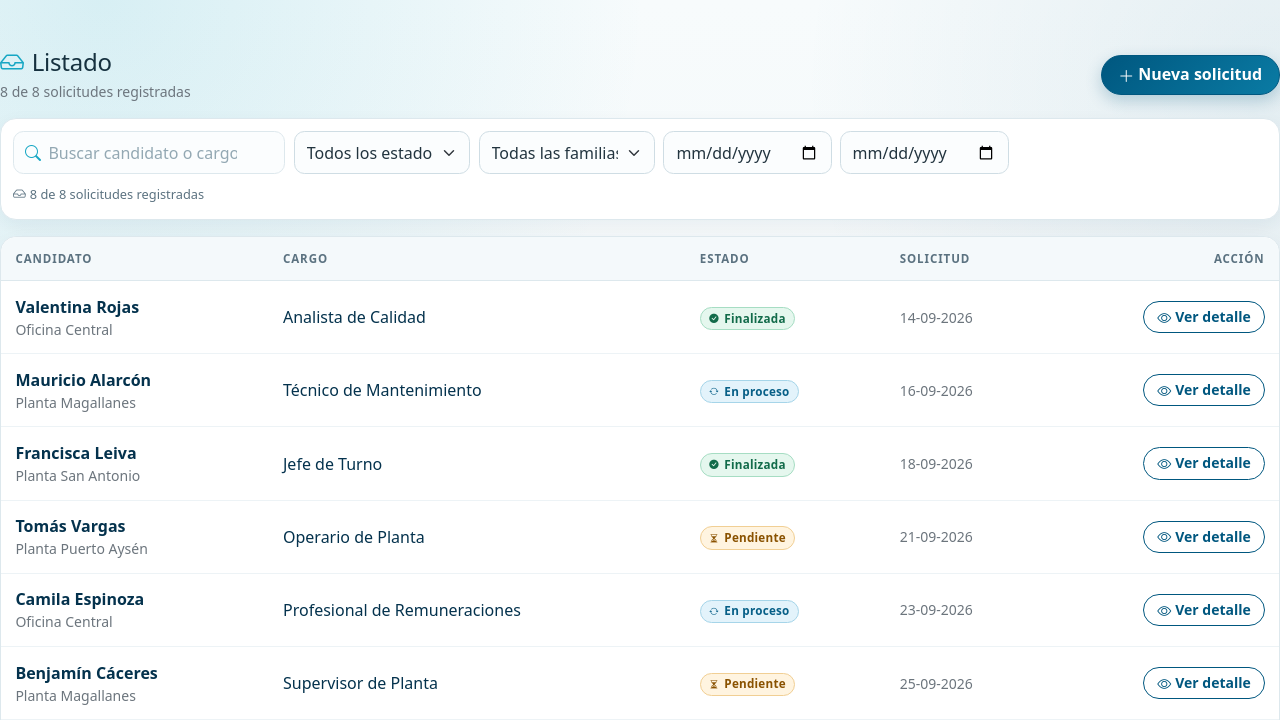
Test: BandejaSolicitudes › filtra por texto de candidato o cargo
Type "javiera" into the search field labelled "Buscar candidato o cargo…" at (149, 153), box [13, 131, 285, 174]
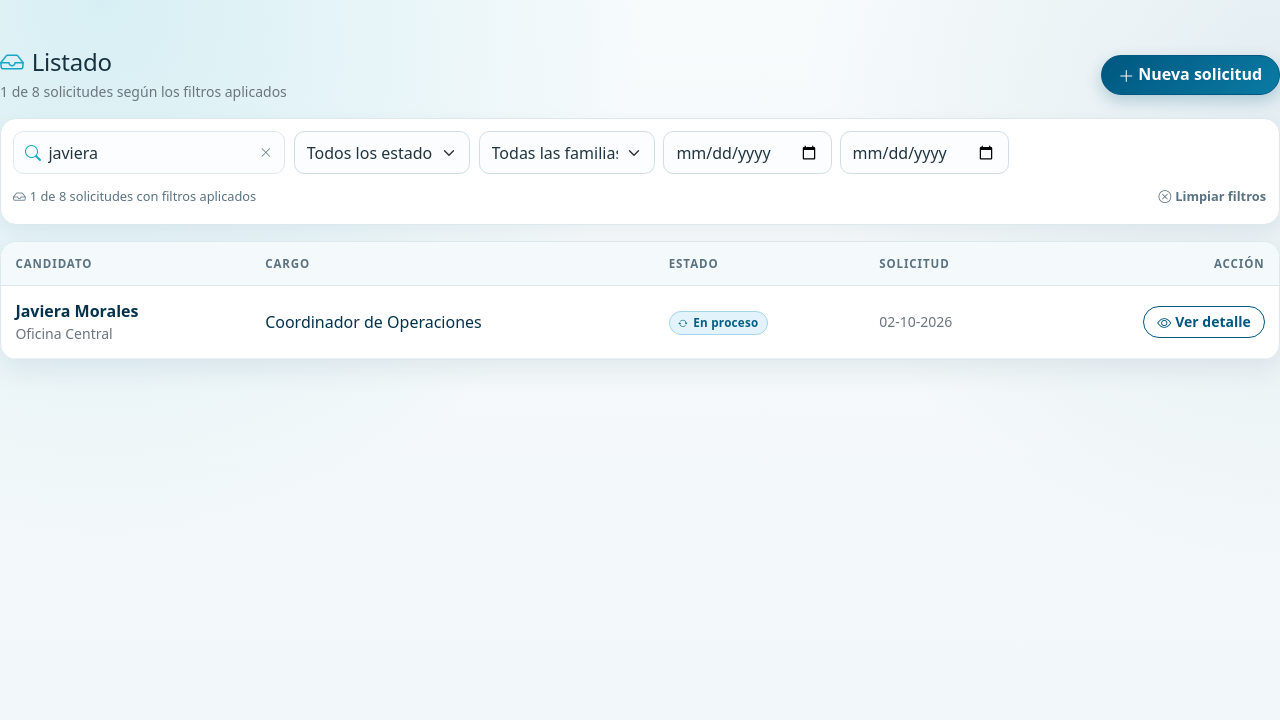
Check: the text "Javiera Morales" is shown, box [15, 300, 138, 322]
Check: the text "Tomás Vargas" is gone
